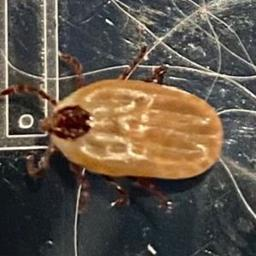Rhipicephalus sanguineus: (3, 46, 224, 211)
